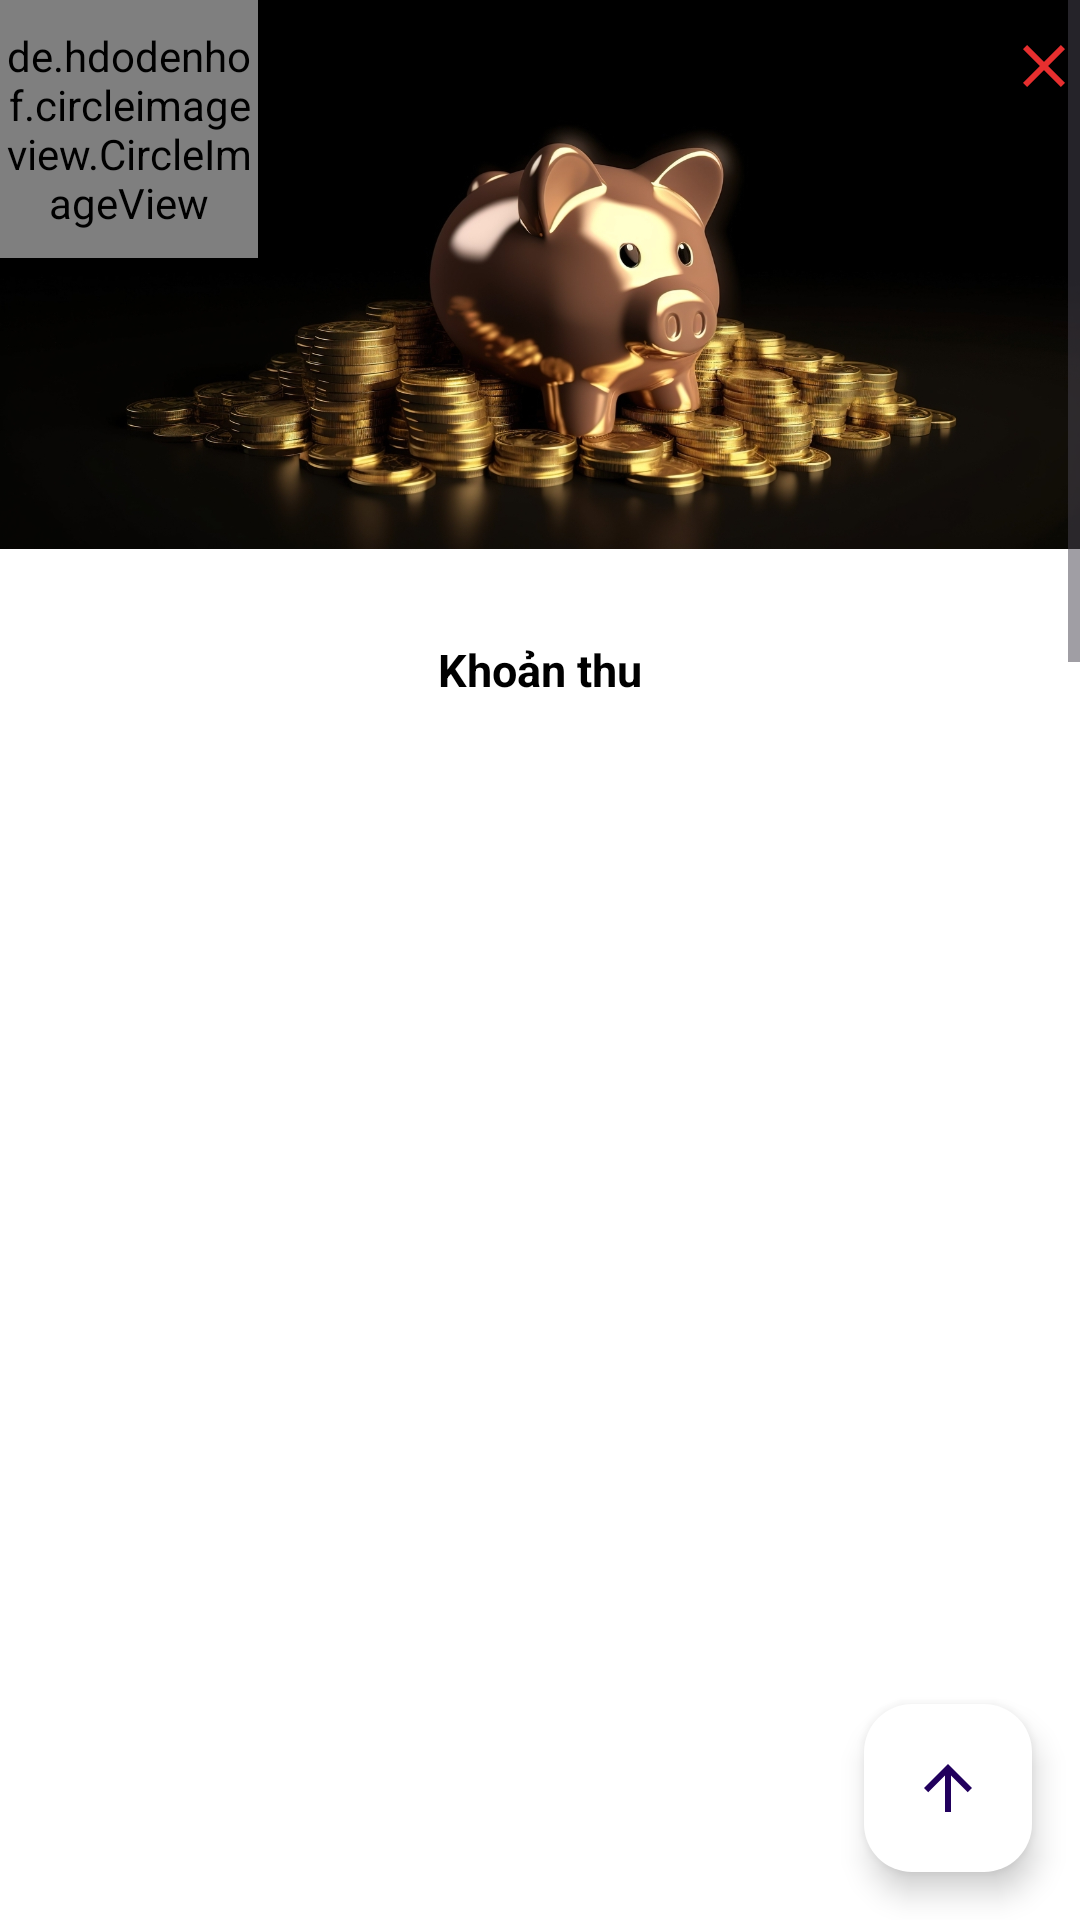

Screen size 1080 x 1920. Icon name, then its box in pixels as [left=x1, top=y1, right=x2, bottom=y2]:
close: [left=1023, top=0, right=1080, bottom=132]
